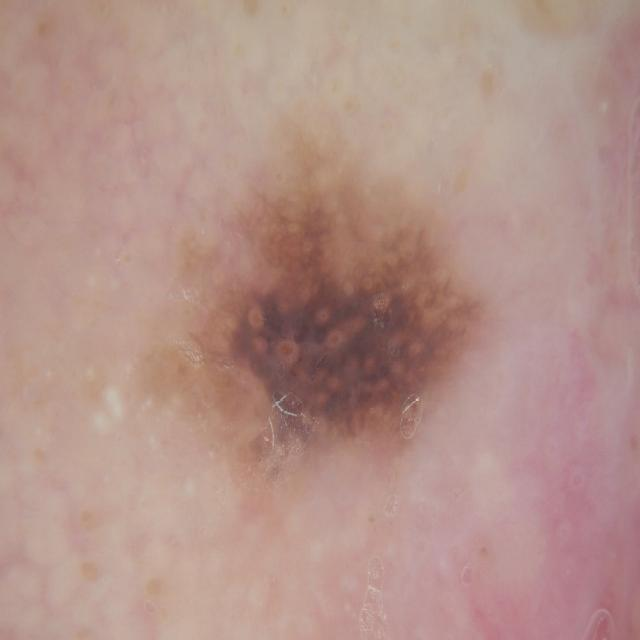Melanoma: (97, 142, 545, 495)
